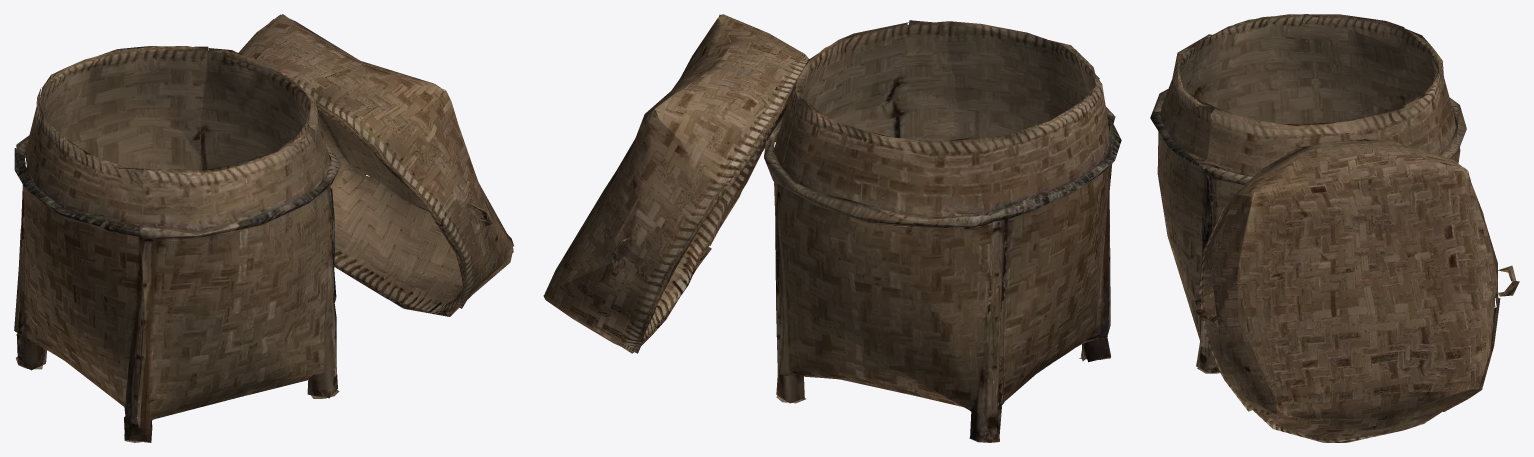
The model's file is basket.glb.
3 views of the same model, side by side, from view 1: azimuth 30°, elevation 25°; view 2: azimuth 150°, elevation 25°; view 3: azimuth 270°, elevation 25° (orthographic). The views are drawn at different scales.
Visible parts, largest first — view 1: wicker_basket_02_base, wicker_basket_02_lid; view 2: wicker_basket_02_base, wicker_basket_02_lid; view 3: wicker_basket_02_lid, wicker_basket_02_base.
Boxes of the visible parts, box(x1,y1,x2,y2) form: wicker_basket_02_base: box(14, 46, 341, 442); wicker_basket_02_lid: box(238, 14, 514, 316); wicker_basket_02_base: box(764, 20, 1121, 442); wicker_basket_02_lid: box(543, 14, 808, 353); wicker_basket_02_lid: box(1193, 139, 1519, 442); wicker_basket_02_base: box(1150, 14, 1466, 373).
Bounding box in the file's own units: 0.3471 × 0.2017 × 0.2553.
1 material, 1 textured.
